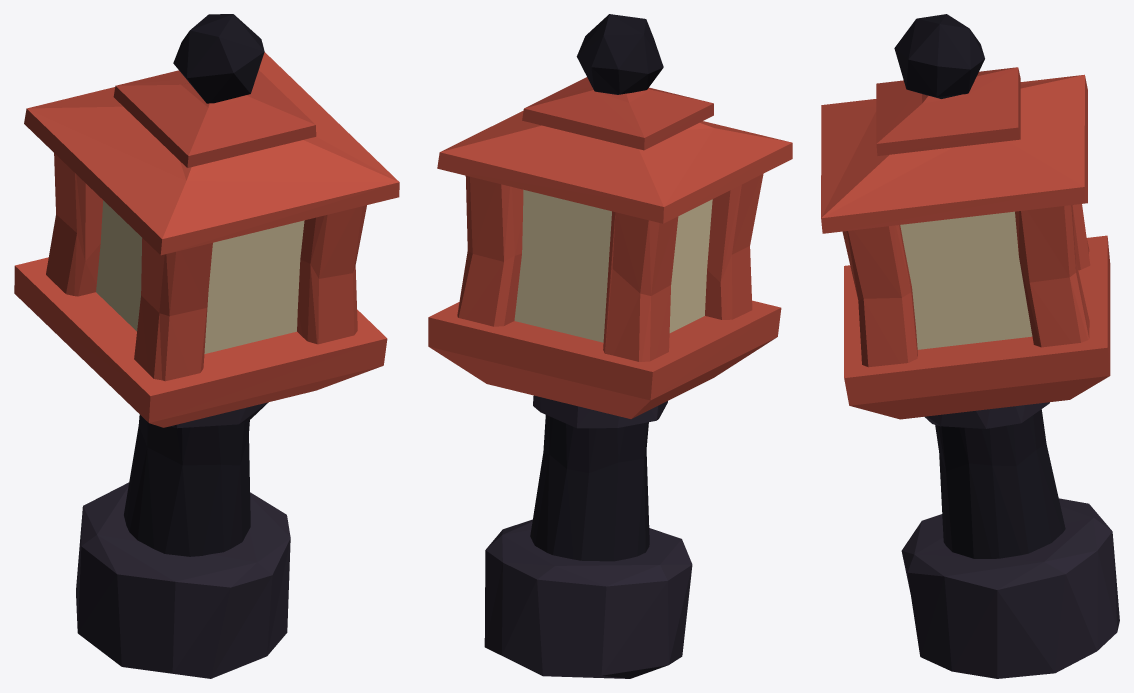
File: farol-japones.glb
3 renders of one model, left to right at view 1: azimuth 30°, elevation 25°; view 2: azimuth 150°, elevation 25°; view 3: azimuth 270°, elevation 25°, orthographic. The views are drawn at different scales.
Visible parts, largest first — view 1: farol-japones; view 2: farol-japones; view 3: farol-japones.
Boxes of the visible parts, box(x1,y1,x2,y2) form: farol-japones: box(14, 14, 399, 678); farol-japones: box(428, 14, 792, 678); farol-japones: box(821, 14, 1119, 678).
Size of the model in its own units: 0.8952 by 2.33 by 1.
